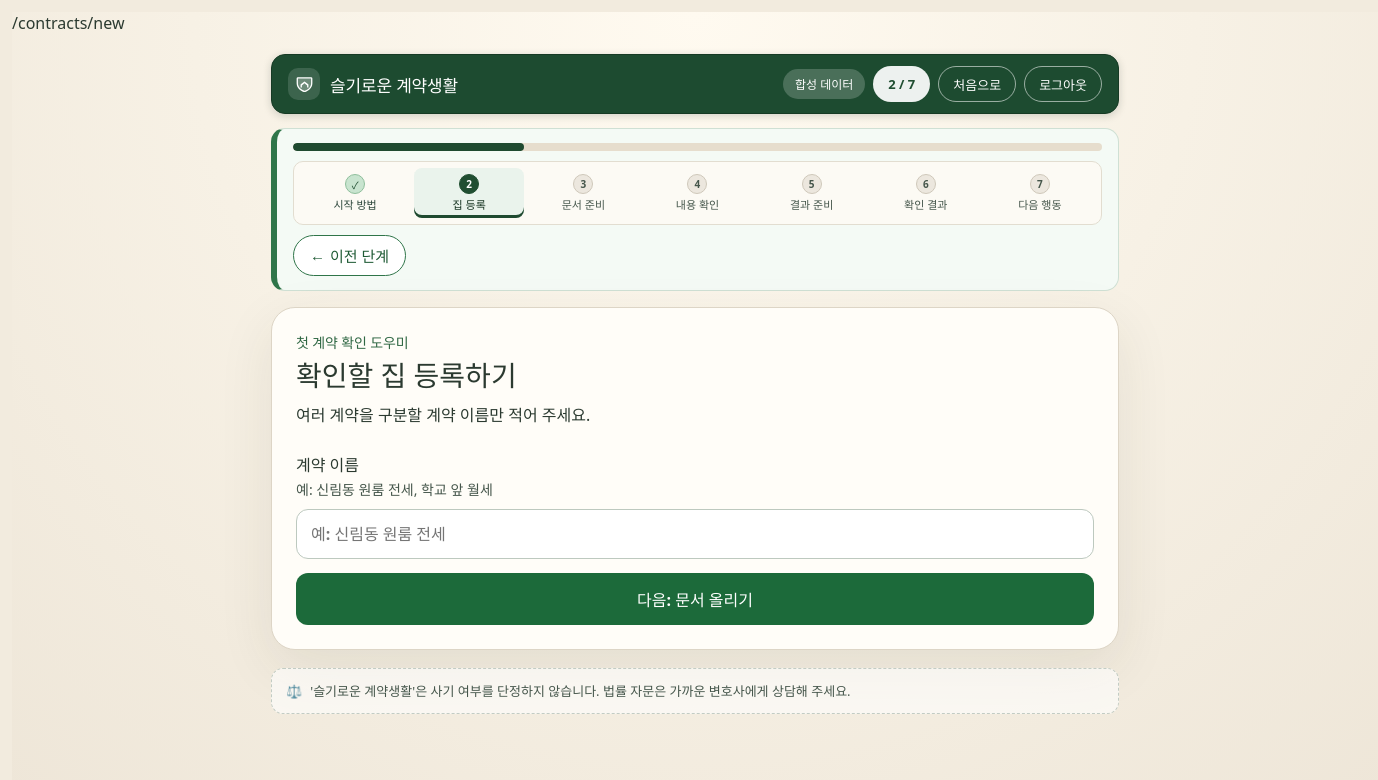
ContractCreatePage › requires a contract name before submitting
The width and height of the screenshot is (1378, 780).
Click the button "다음: 문서 올리기". click: {"x": 695, "y": 599}
box: x1=296 y1=573 x2=1094 y2=625
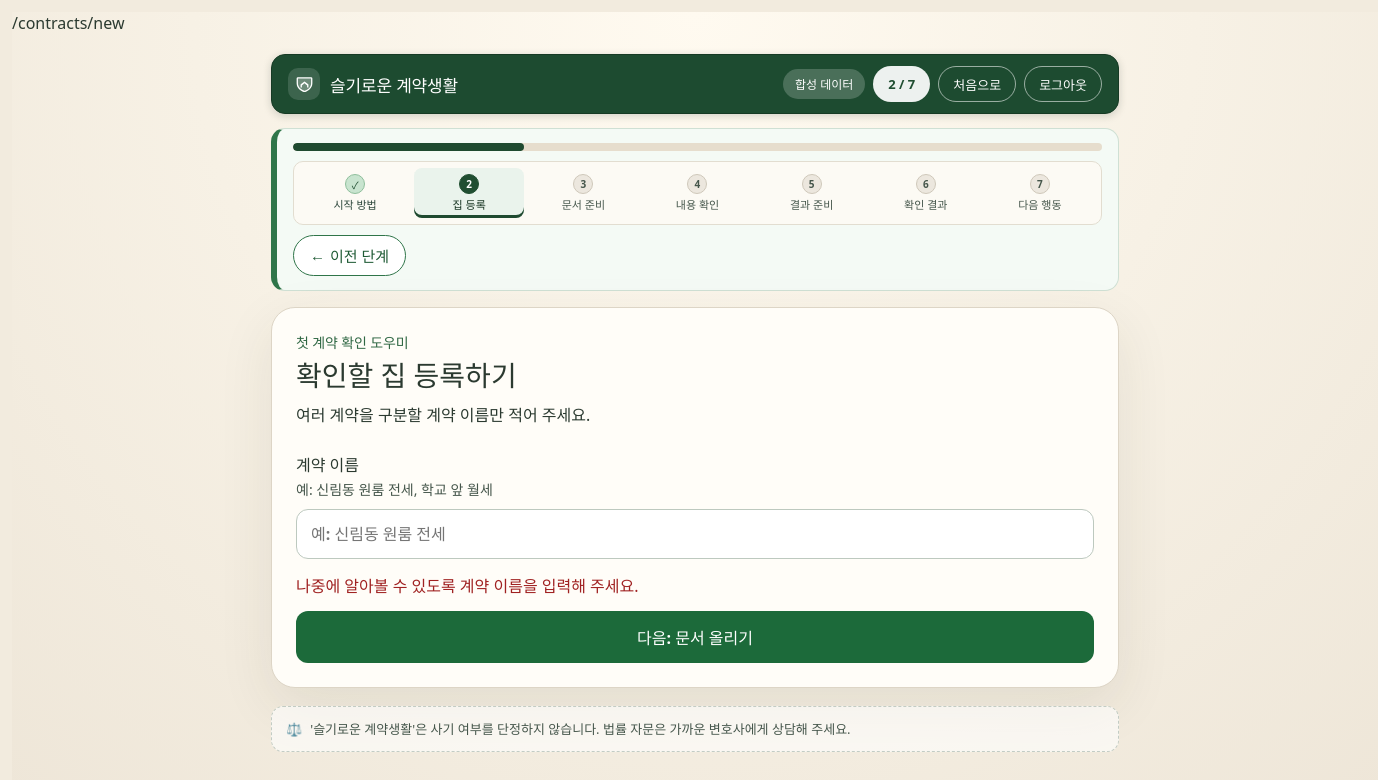
Result: the message reads "나중에 알아볼 수 있도록 계약 이름을 입력해 주세요." at x1=296 y1=575 x2=638 y2=597
